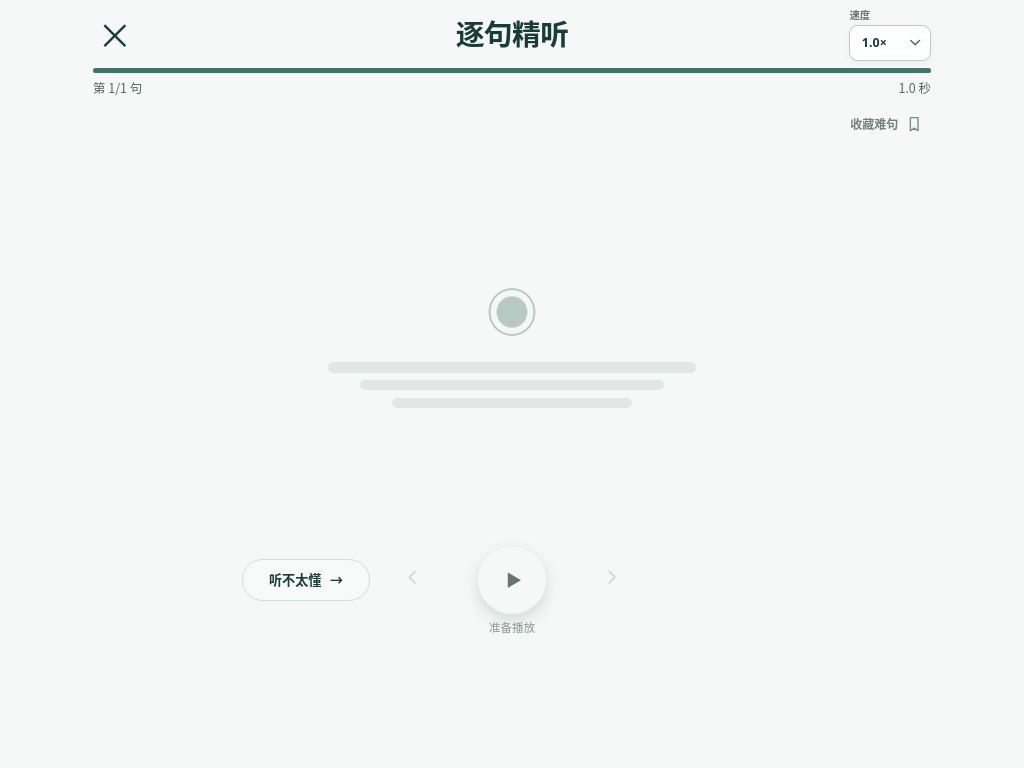
Test case: PracticeFlow › offers the shared translator after a learner selects text in the intensive transcript
Click the button "听不太懂 →". click: (306, 580)
box: [242,559,370,601]
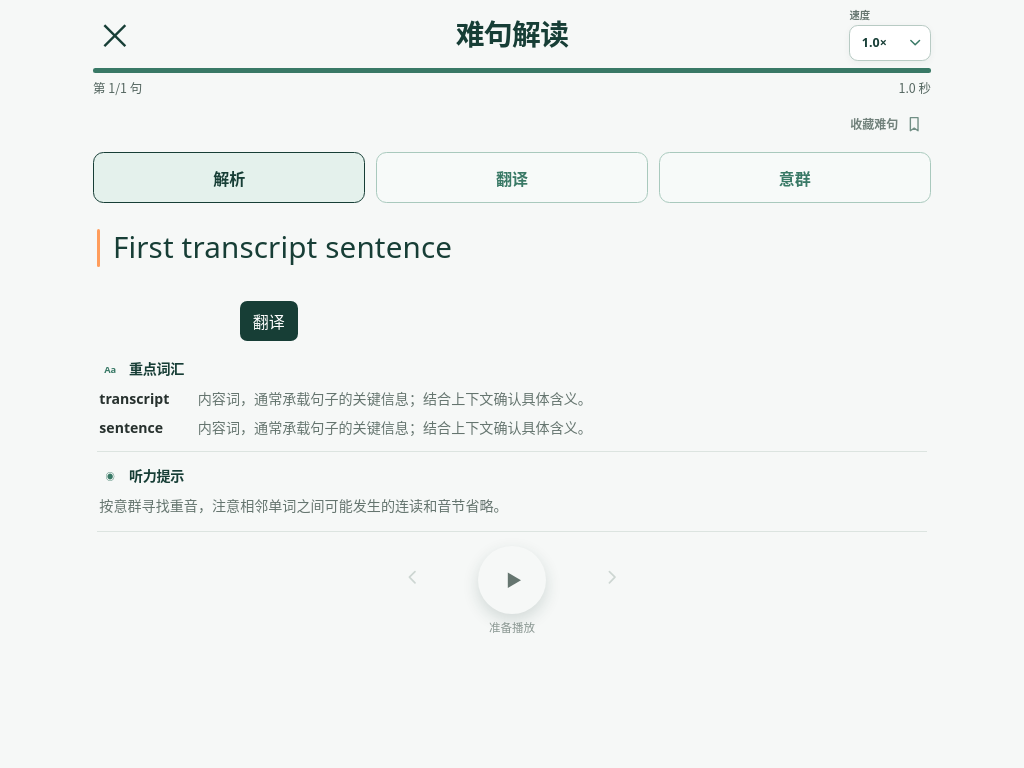
Result: the button with aria-label "翻译 transcript" is shown at [240,301,298,341]
